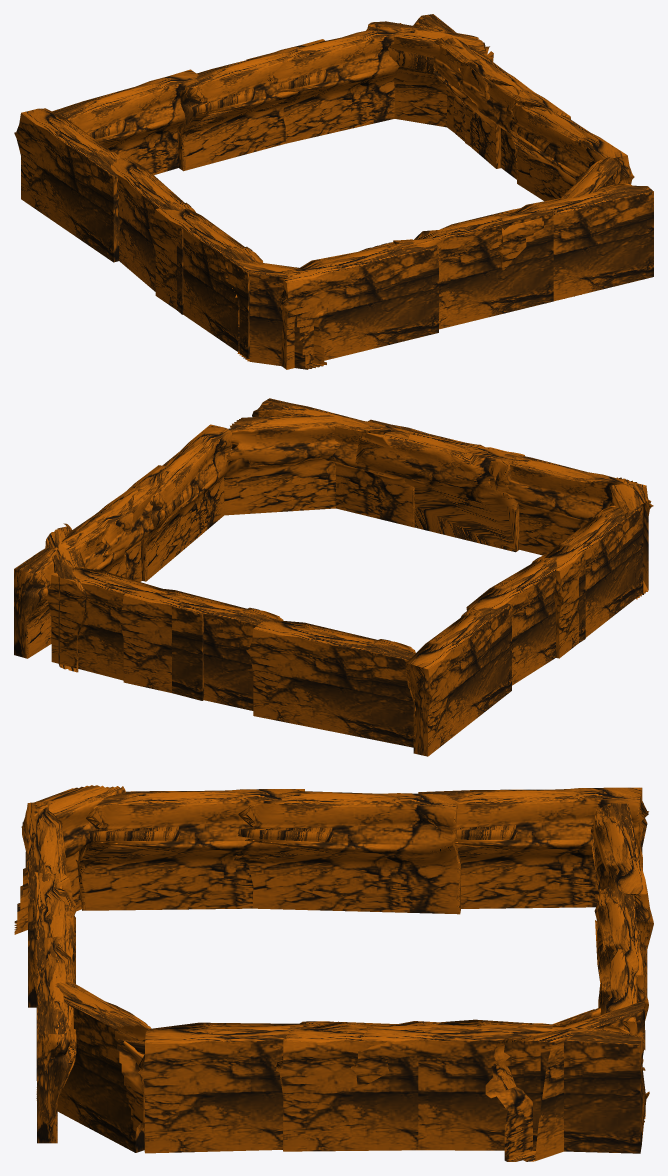
File: cliffs2.gltf
The picture shows the model from 3 angles, top to bottom: view 1: azimuth 30°, elevation 25°; view 2: azimuth 150°, elevation 25°; view 3: azimuth 270°, elevation 25°; orthographic projection. The views are drawn at different scales.
Parts seen in each view (by area): view 1: pCubeShape32_0, pCubeShape13_0, pCubeShape11_0, pCubeShape27_0, pCubeShape22_0, pCubeShape23_0, pCubeShape30_0, pCubeShape25_0, pCubeShape16_0, pCubeShape29_0, pCubeShape21_0, pCubeShape31_0 (+4 smaller); view 2: pCubeShape25_0, pCubeShape11_0, pCubeShape27_0, pCubeShape23_0, pCubeShape14_0, pCubeShape22_0, pCubeShape30_0, pCubeShape16_0, pCubeShape32_0, pCubeShape13_0, pCubeShape29_0, pCubeShape20_0 (+4 smaller); view 3: pCubeShape29_0, pCubeShape30_0, pCubeShape16_0, pCubeShape27_0, pCubeShape18_0, pCubeShape19_0, pCubeShape20_0, pCubeShape14_0, pCubeShape21_0, pCubeShape13_0, pCubeShape25_0, pCubeShape31_0 (+4 smaller).
Part boxes in pixels (x1=…): pCubeShape32_0: x1=278, y1=239, x2=438, y2=369; pCubeShape13_0: x1=494, y1=183, x2=653, y2=301; pCubeShape11_0: x1=393, y1=207, x2=553, y2=329; pCubeShape27_0: x1=14, y1=108, x2=123, y2=262; pCubeShape22_0: x1=246, y1=23, x2=403, y2=143; pCubeShape23_0: x1=177, y1=39, x2=325, y2=171; pCubeShape30_0: x1=148, y1=208, x2=262, y2=358; pCubeShape25_0: x1=52, y1=69, x2=199, y2=174; pCubeShape16_0: x1=508, y1=103, x2=634, y2=201; pCubeShape29_0: x1=111, y1=158, x2=195, y2=314; pCubeShape21_0: x1=366, y1=21, x2=493, y2=127; pCubeShape31_0: x1=225, y1=257, x2=330, y2=369; pCubeShape25_0: x1=246, y1=620, x2=415, y2=747; pCubeShape11_0: x1=355, y1=419, x2=524, y2=552; pCubeShape27_0: x1=405, y1=603, x2=511, y2=756; pCubeShape23_0: x1=116, y1=587, x2=283, y2=710; pCubeShape14_0: x1=223, y1=414, x2=339, y2=515; pCubeShape22_0: x1=44, y1=567, x2=204, y2=700; pCubeShape30_0: x1=544, y1=505, x2=643, y2=658; pCubeShape16_0: x1=141, y1=424, x2=232, y2=581; pCubeShape32_0: x1=488, y1=454, x2=653, y2=555; pCubeShape13_0: x1=252, y1=398, x2=414, y2=527; pCubeShape29_0: x1=466, y1=552, x2=585, y2=685; pCubeShape20_0: x1=14, y1=512, x2=133, y2=658; pCubeShape29_0: x1=233, y1=791, x2=460, y2=914; pCubeShape30_0: x1=76, y1=789, x2=304, y2=910; pCubeShape16_0: x1=138, y1=1021, x2=336, y2=1153; pCubeShape27_0: x1=418, y1=787, x2=648, y2=908; pCubeShape18_0: x1=276, y1=1021, x2=476, y2=1151; pCubeShape19_0: x1=350, y1=1021, x2=561, y2=1150; pCubeShape20_0: x1=437, y1=1019, x2=649, y2=1153; pCubeShape14_0: x1=36, y1=981, x2=151, y2=1152; pCubeShape21_0: x1=485, y1=1001, x2=645, y2=1161; pCubeShape13_0: x1=30, y1=936, x2=76, y2=1143; pCubeShape25_0: x1=590, y1=803, x2=653, y2=995; pCubeShape31_0: x1=14, y1=785, x2=125, y2=934.
Bounding box in the file's own units: 22.67 × 4.58 × 23.
Materials: 16 (16 with a texture image).
